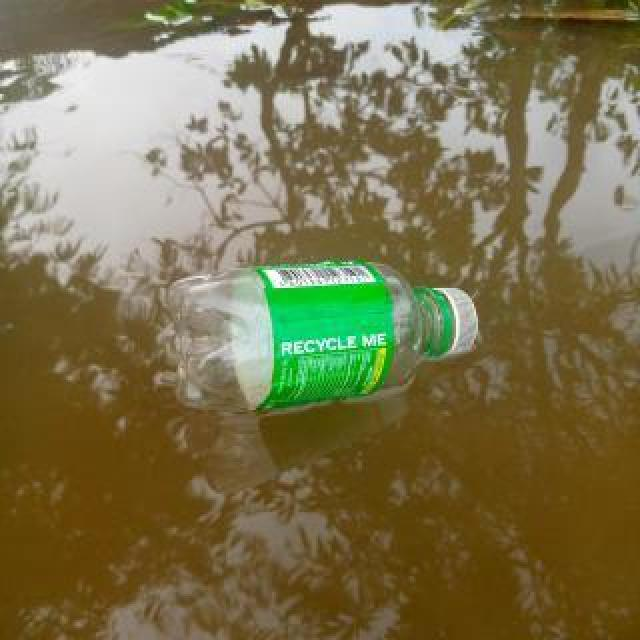bottle: (155, 257, 479, 413)
